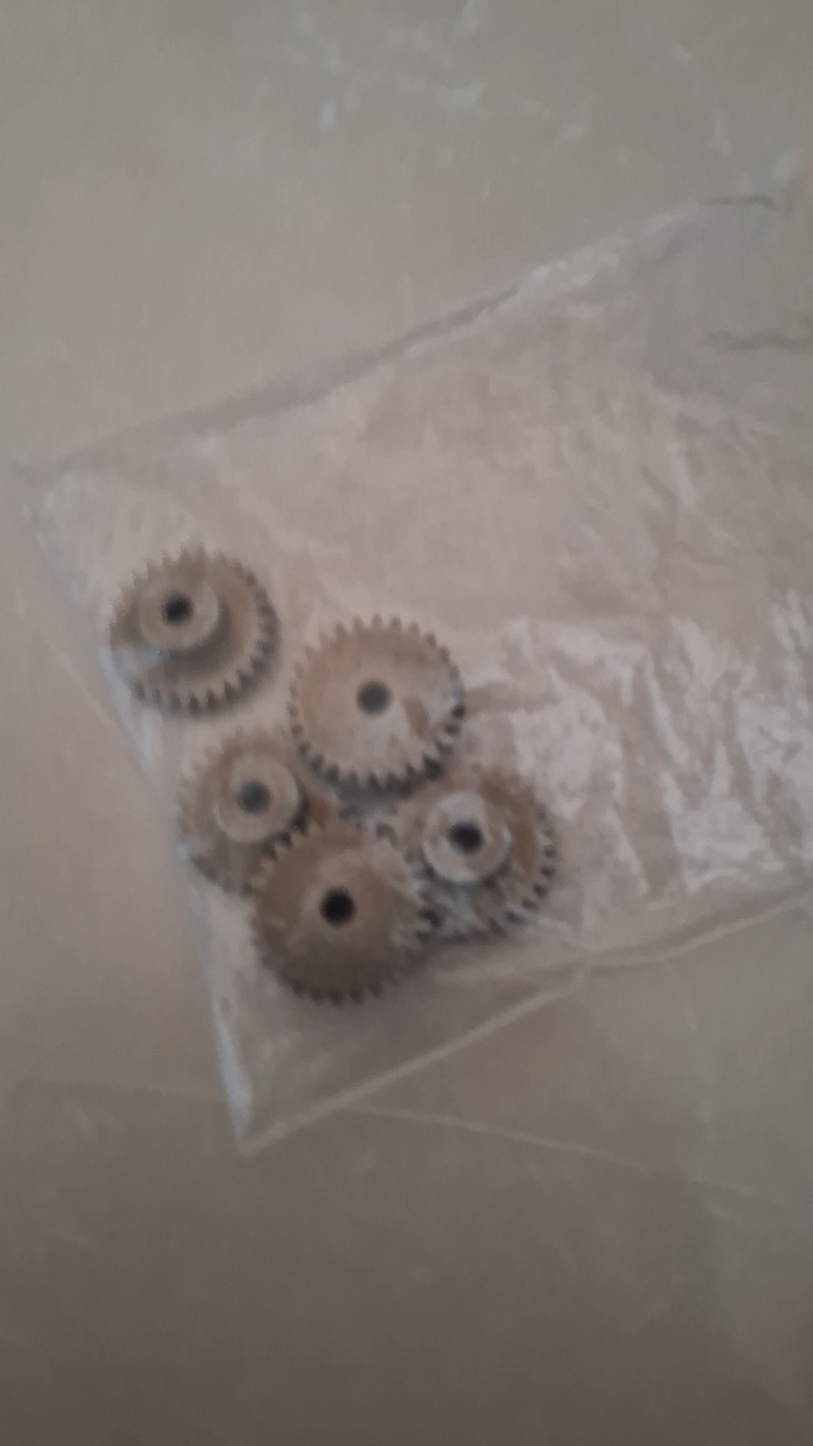spur gear: (252, 821, 428, 1001), (379, 768, 556, 936), (290, 619, 464, 789), (109, 551, 276, 713), (178, 730, 333, 892)
